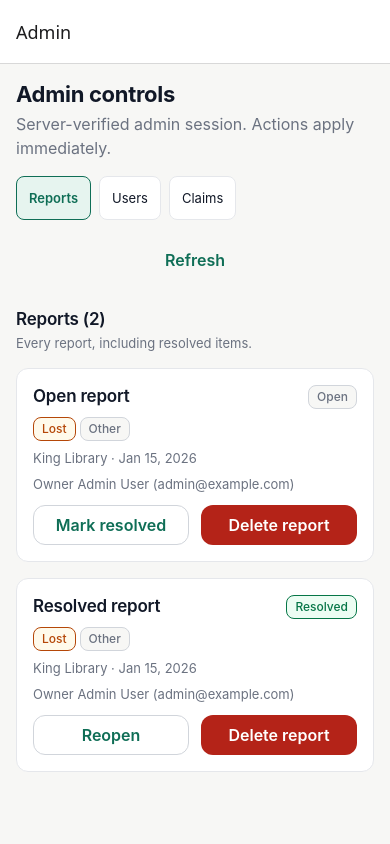
Test: deletes a report after confirmation
The width and height of the screenshot is (390, 844).
Expected: the heading "Reports (2)" is shown, [16,309,106,329]
Step 1. Click the button "Delete report" below "Open report" → click(279, 525), box [201,505,357,545]
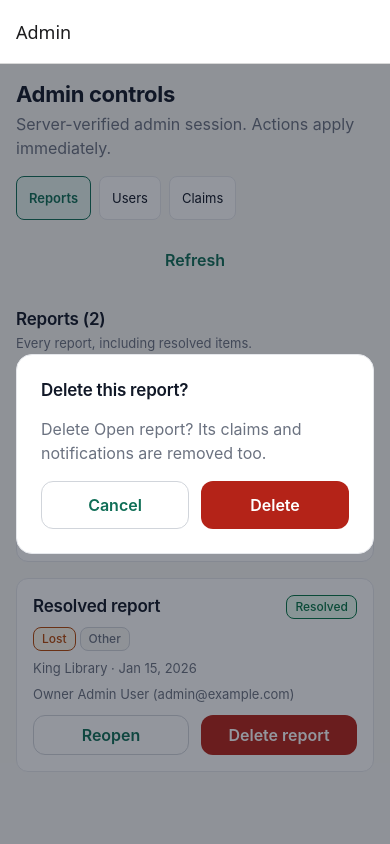
Result: the heading "Delete this report?" is shown at [41,380,188,400]
Step 2. Click the button "Delete" → click(275, 505), box [201,481,349,529]
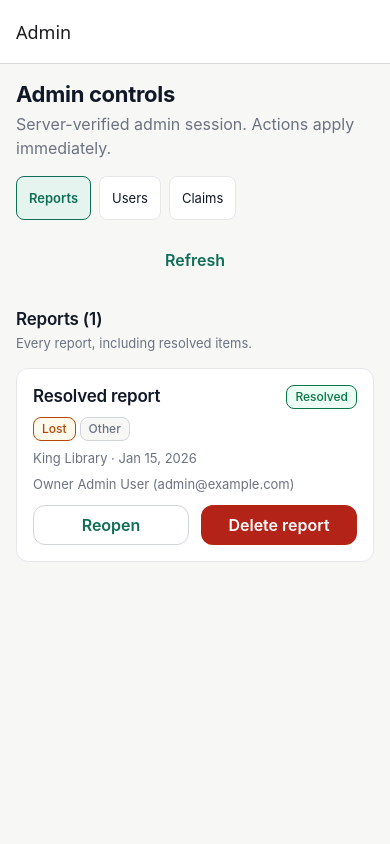
Result: the heading "Reports (1)" is shown at [16,309,102,329]
